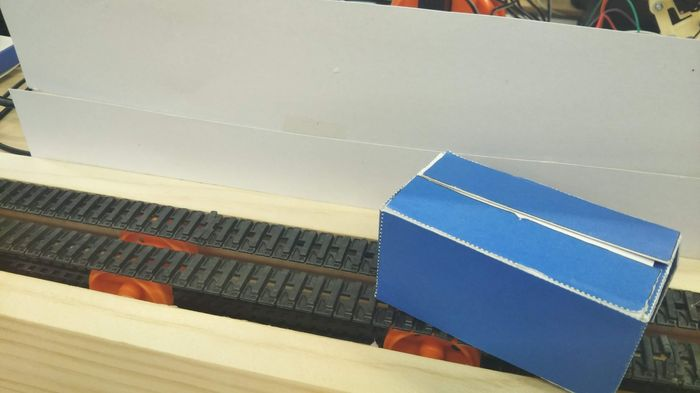box3: (372, 146, 682, 393)
